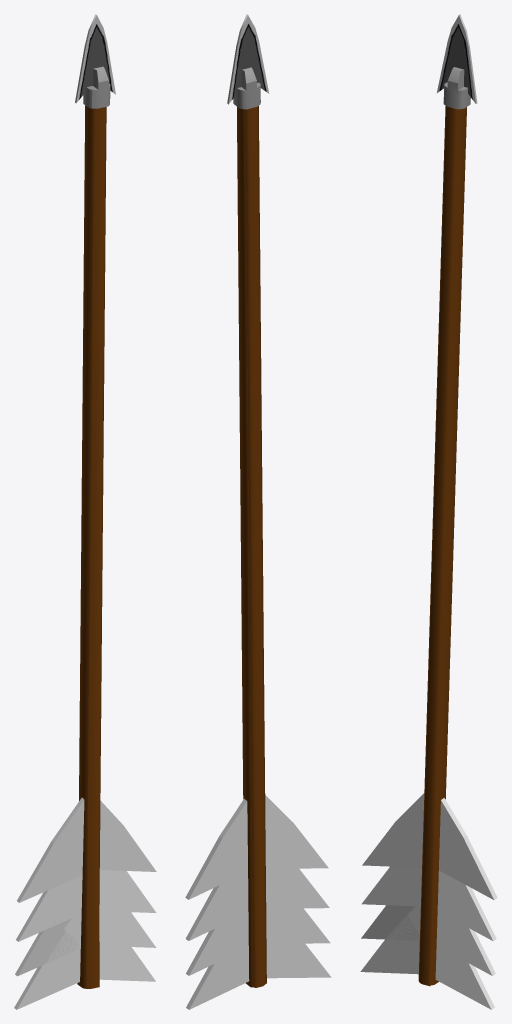
The model's file is normal arrow.fbx.
The picture shows the model from 3 angles, left to right: view 1: azimuth 30°, elevation 25°; view 2: azimuth 210°, elevation 25°; view 3: azimuth 330°, elevation 25°; orthographic projection. The views are drawn at different scales.
Parts seen in each view (by area): view 1: polySurface1; view 2: polySurface1; view 3: polySurface1.
Part boxes in pixels (x1,y1,x2,y2): polySurface1: [14, 14, 156, 1009]; polySurface1: [185, 14, 331, 1009]; polySurface1: [360, 14, 497, 1009].
Size of the model in its own units: 2.06 by 13.91 by 0.5526.
